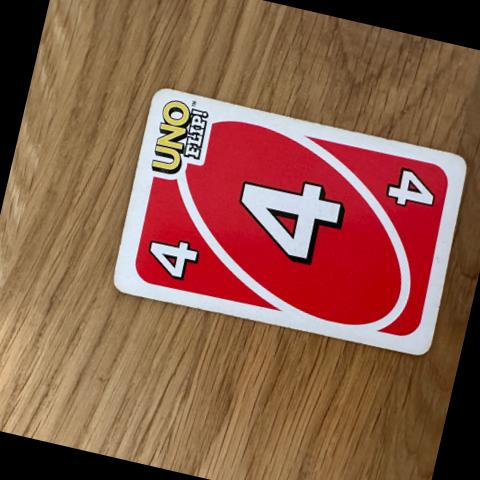lred-4: (124, 214, 224, 300)
